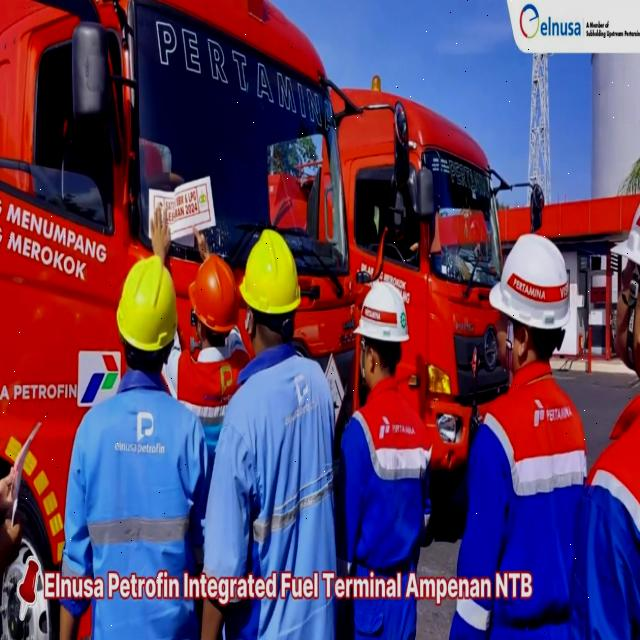Hardhat: (490, 240, 570, 326), (116, 258, 176, 350), (240, 234, 302, 310), (188, 259, 239, 332), (608, 176, 640, 282), (354, 286, 409, 340)
No Glove: (0, 512, 23, 598), (199, 597, 226, 640), (0, 464, 26, 506), (56, 599, 82, 640), (152, 210, 170, 255), (194, 231, 215, 257)
Overall Suit: (452, 356, 587, 640), (335, 373, 430, 640), (568, 379, 640, 640)
Strapped: (626, 265, 638, 352), (505, 315, 514, 370), (359, 337, 366, 378)
